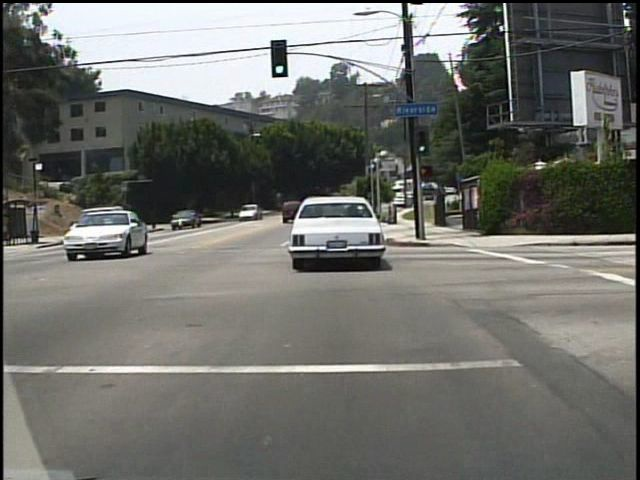person: (131, 209, 142, 233)
